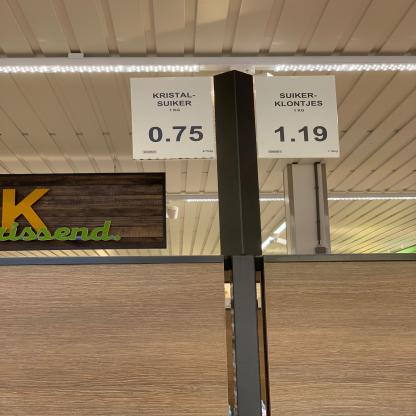prtg: (131, 77, 217, 162), (256, 76, 341, 159)
